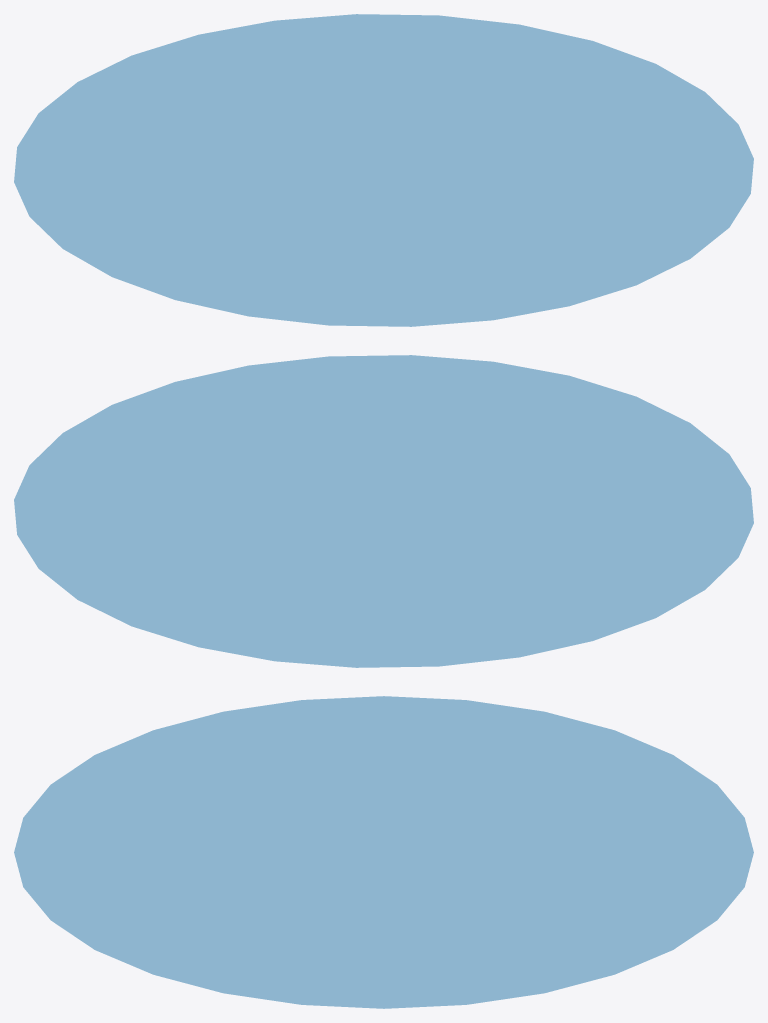
The model's file is water_pool.glb.
3 renders of one model, top to bottom at view 1: azimuth 30°, elevation 25°; view 2: azimuth 150°, elevation 25°; view 3: azimuth 270°, elevation 25°, orthographic.
Parts seen in each view (by area): view 1: water_pool; view 2: water_pool; view 3: water_pool.
Part boxes in pixels (<box>): water_pool: <box>14,14,753,326</box>; water_pool: <box>14,355,753,667</box>; water_pool: <box>14,696,753,1008</box>.
Bounding box in the file's own units: 8 × 2.94e-05 × 8.
